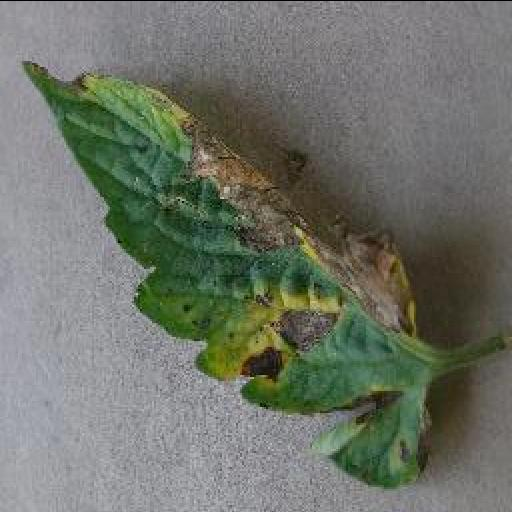Early Blight: (23, 58, 433, 488)
